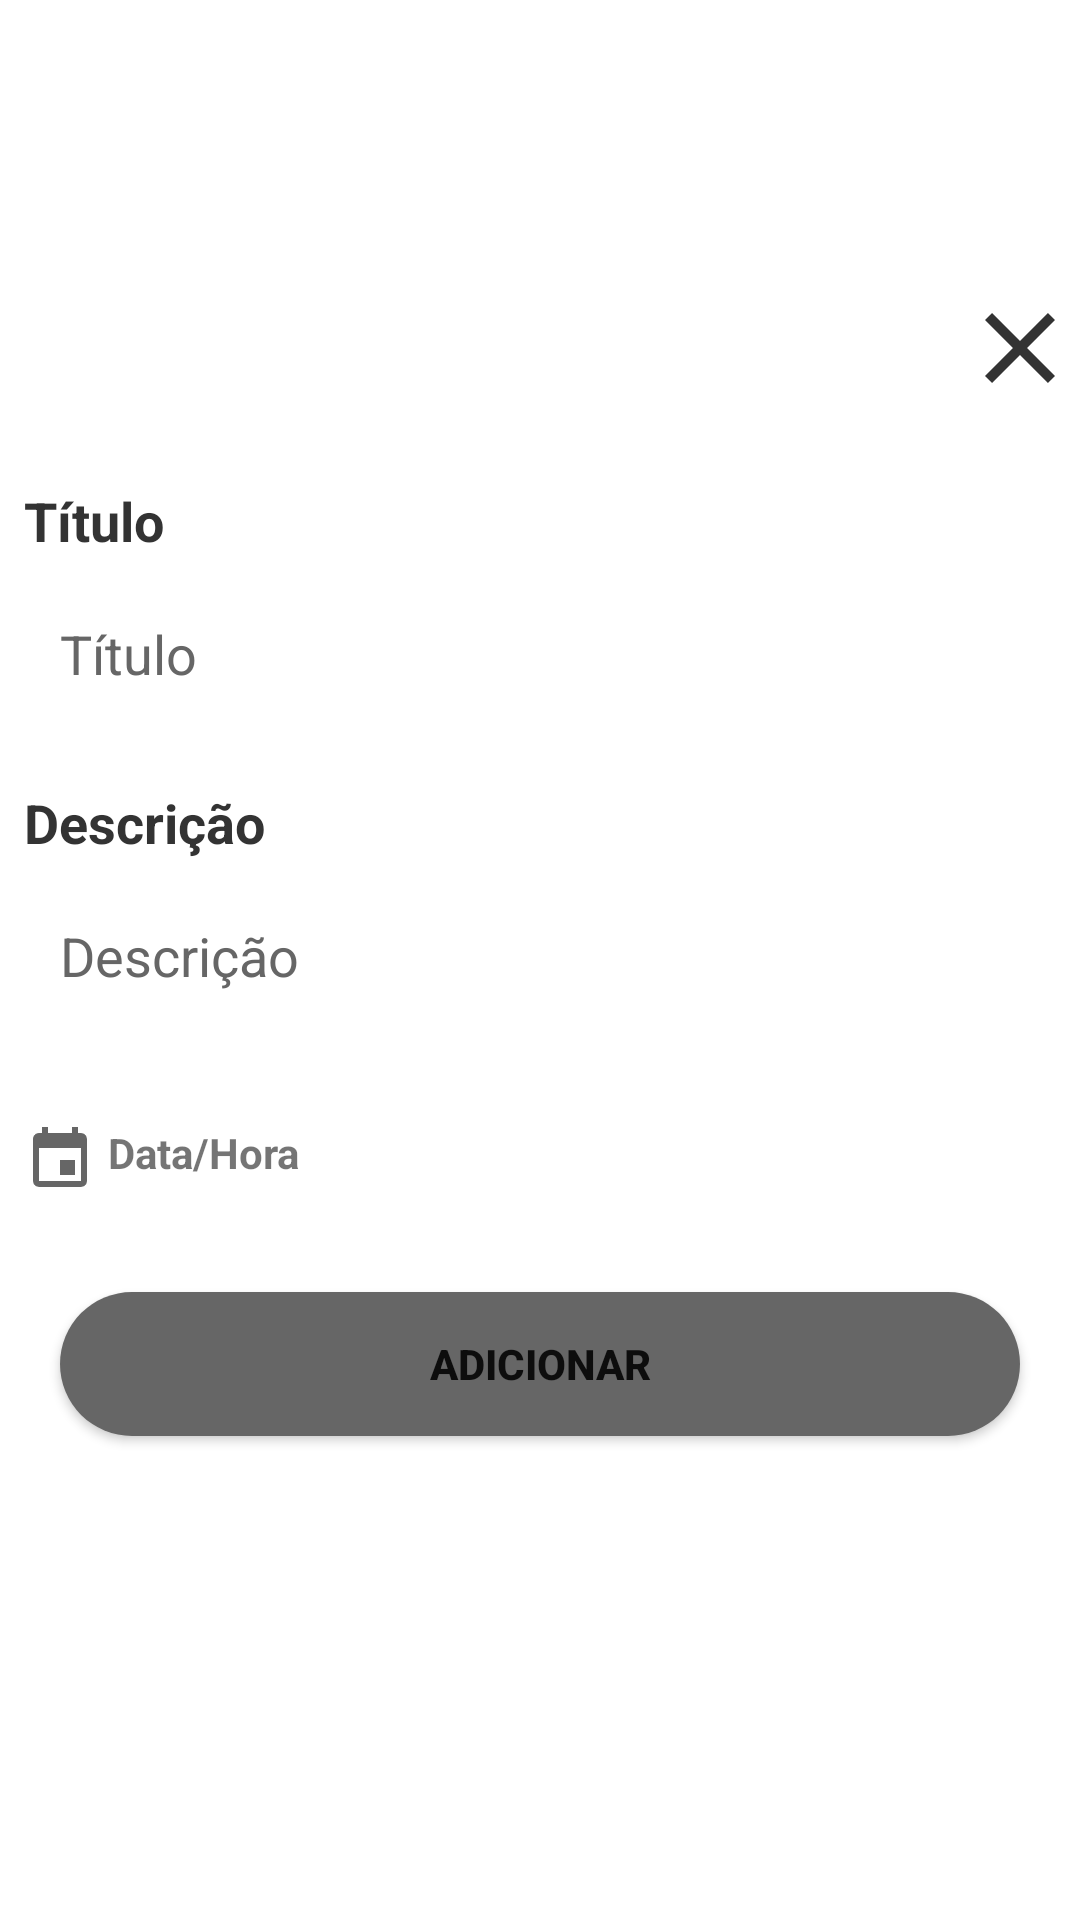

Screen size 1080x1920. Icon name, then its center in pixels as (x=x, y=y):
Imagem da letra X para fechar o diálogo: (x=1020, y=348)
Imagem de um calendário: (x=60, y=1157)
